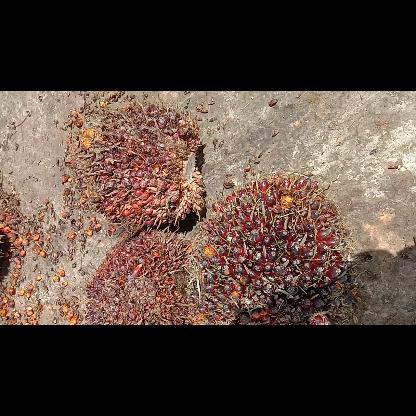Kurang masak: (75, 104, 208, 230)
TBS masak: (195, 172, 363, 324), (86, 232, 210, 324)
